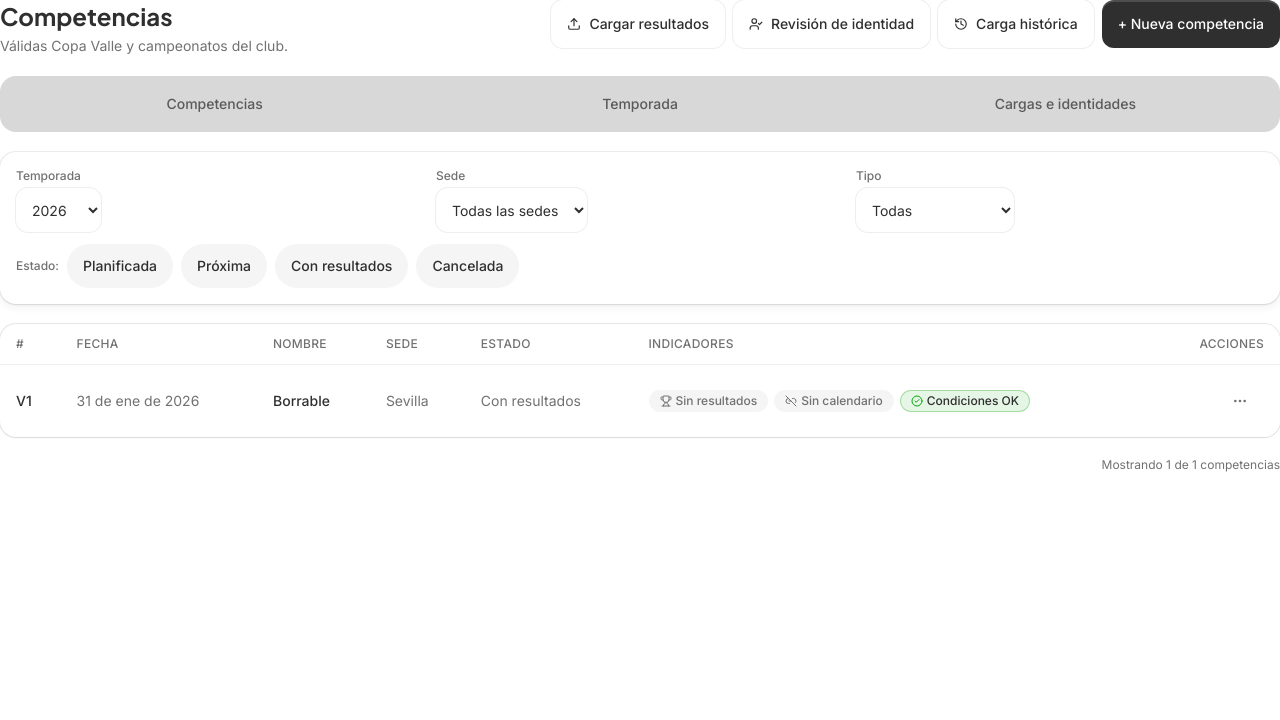
Test case: CompetitionsListPage — delete admin › happy path: confirma → DELETE 204 → cierra dialog
The image size is (1280, 720).
expect the link "Borrable" is shown: met, box [273,392,330,409]
Click the button named "Acciones para Borrable" at (1240,401), box [1216,377,1264,425]
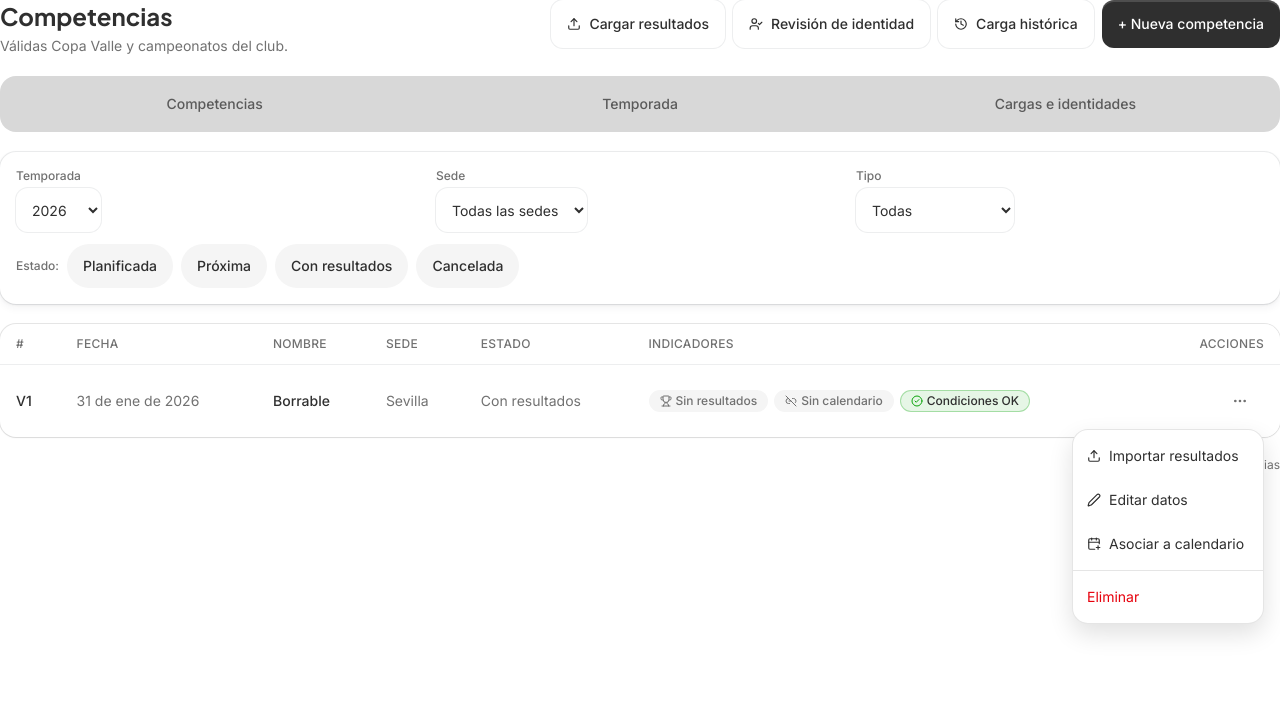
Click the menu item "Eliminar" at (1113,596), box [1087,588,1139,605]
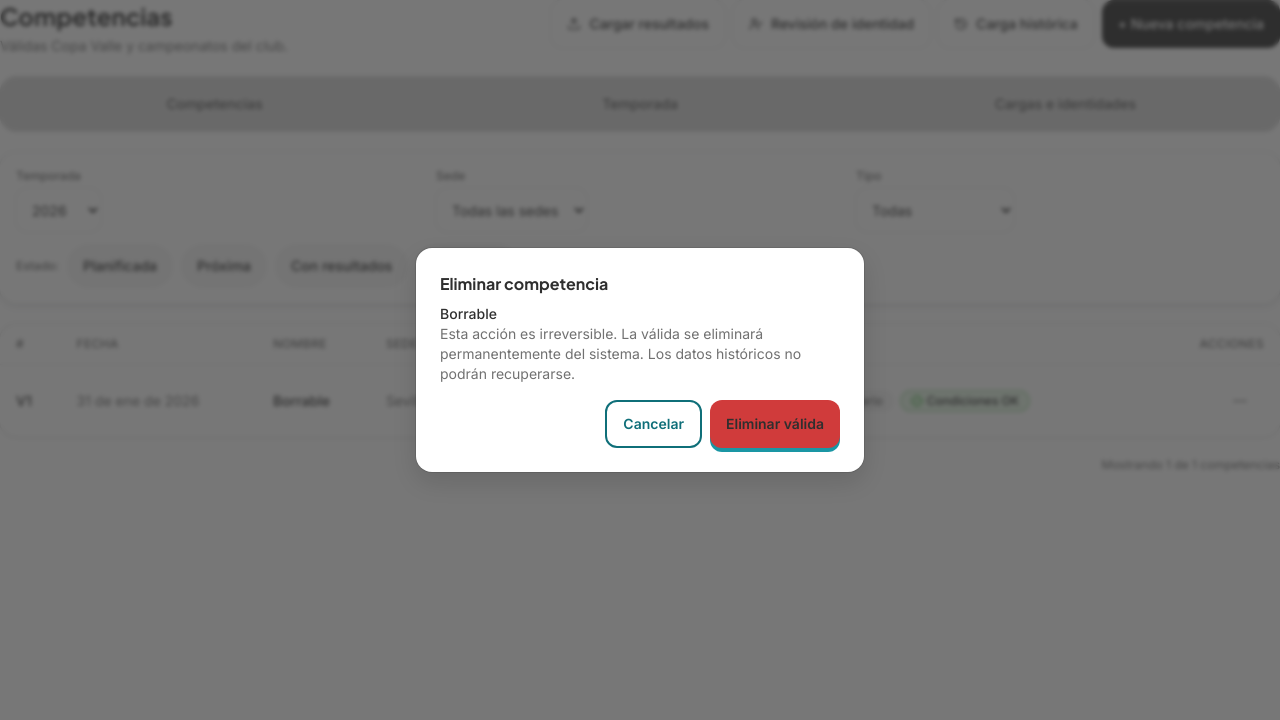
expect the dialog "Eliminar competencia" is shown: met, box [416,248,864,472]
Click the button "Eliminar válida" at (775,424), box [710,400,840,448]
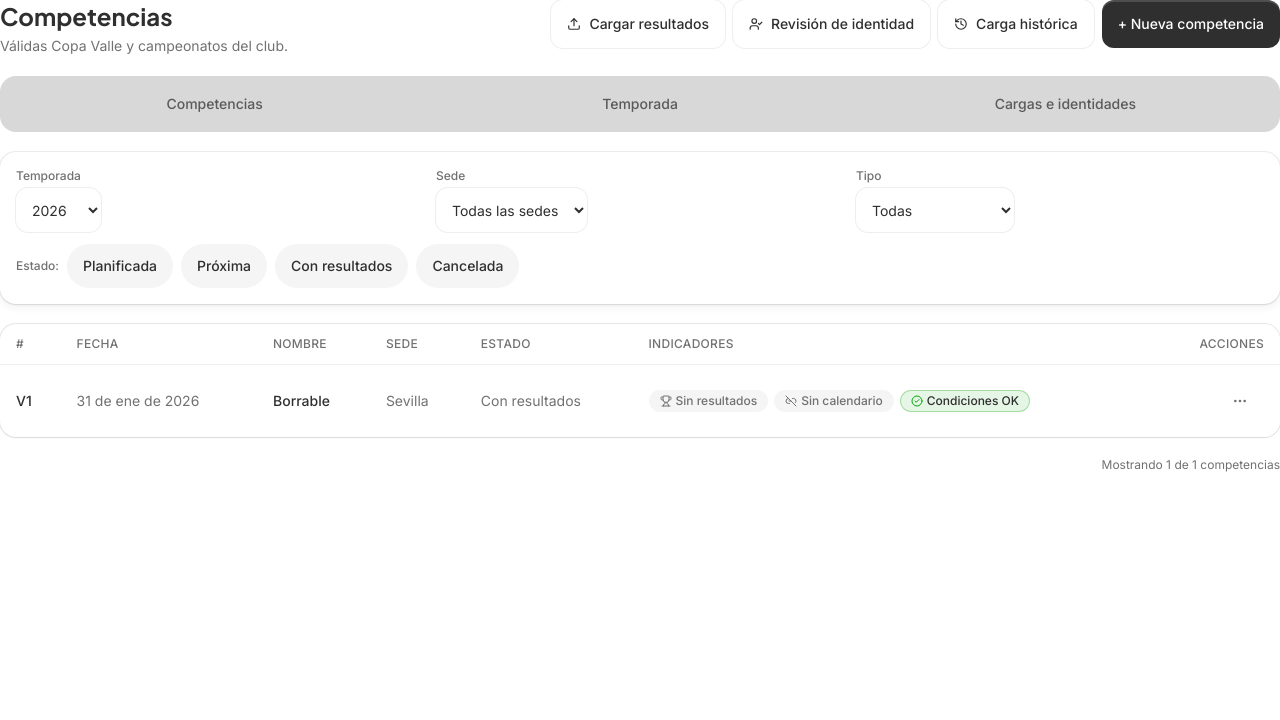
expect the dialog is gone: met
